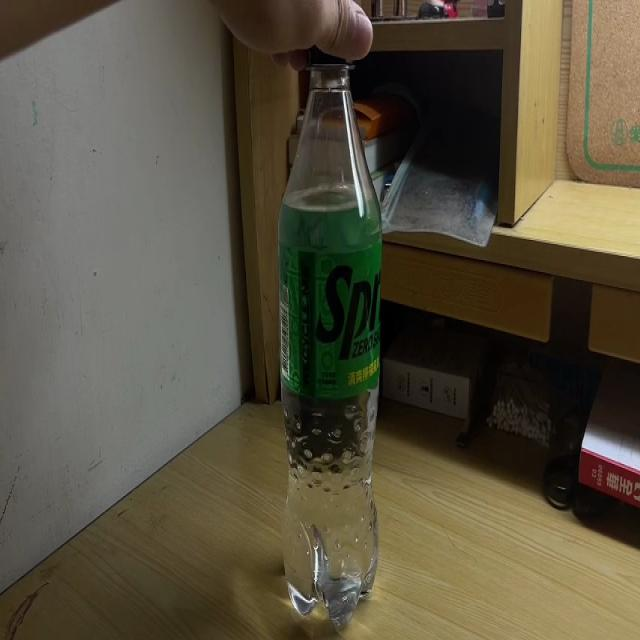Sprite: (276, 17, 381, 630)
